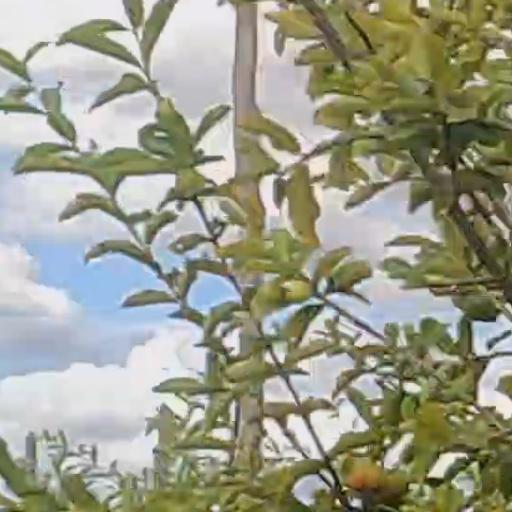acerola: (350, 467, 386, 492)
